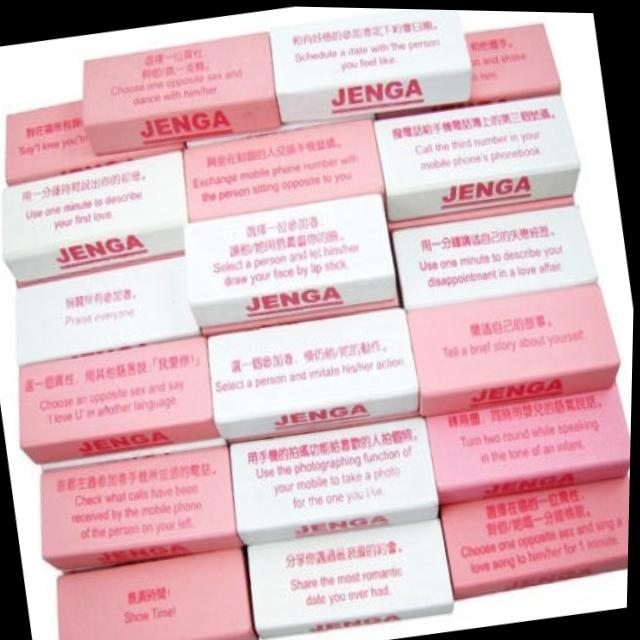box: (408, 279, 623, 416), (185, 192, 400, 328), (208, 306, 422, 439), (231, 416, 441, 544), (375, 91, 581, 220), (22, 334, 224, 465), (43, 443, 244, 571), (427, 378, 633, 502), (250, 517, 456, 640), (4, 148, 189, 283), (84, 31, 281, 156), (443, 474, 632, 600), (270, 7, 473, 121), (392, 201, 600, 308), (182, 117, 386, 221), (17, 256, 202, 368), (60, 547, 262, 640), (378, 21, 561, 117), (7, 100, 184, 185)
